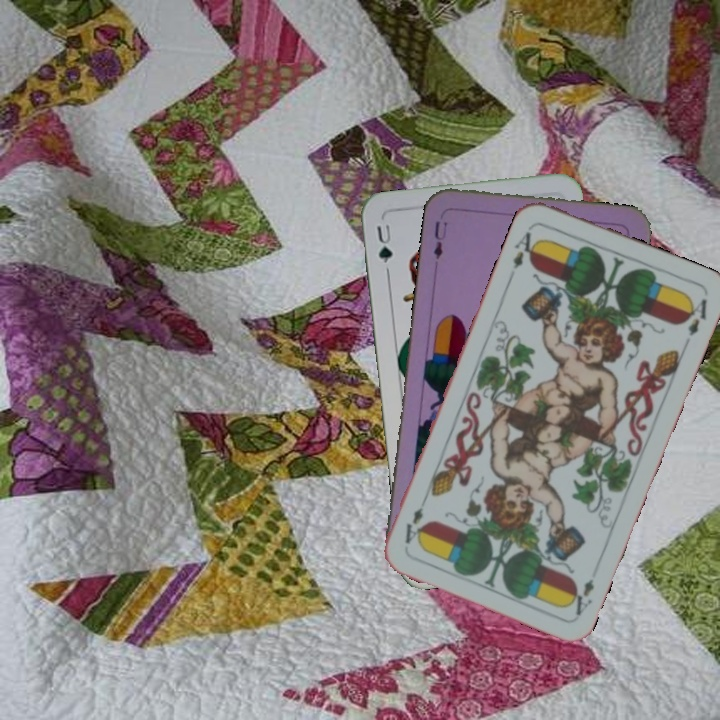EA: (508, 222, 542, 272), (564, 574, 597, 619)
EU: (429, 216, 450, 262)
GU: (372, 219, 396, 266)
